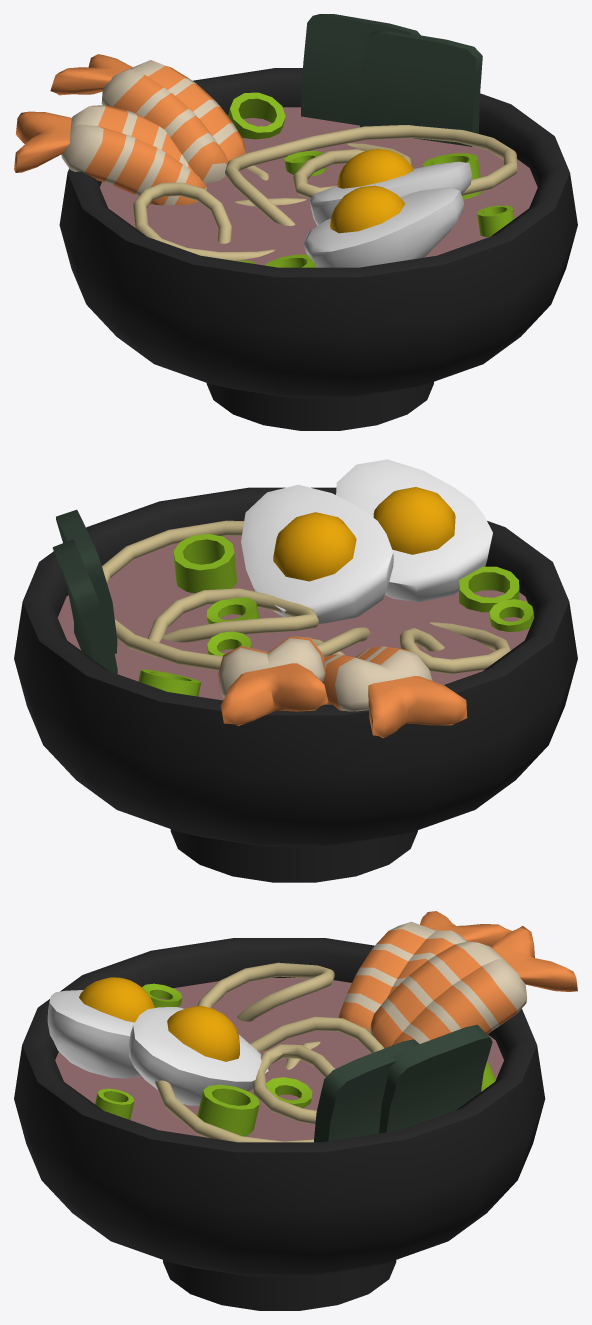
The model's file is Food_Ramen.fbx.
The picture shows the model from 3 angles, top to bottom: view 1: azimuth 30°, elevation 25°; view 2: azimuth 150°, elevation 25°; view 3: azimuth 270°, elevation 25°; orthographic projection. The views are drawn at different scales.
Visible parts, largest first — view 1: Food_Ramen; view 2: Food_Ramen; view 3: Food_Ramen.
Boxes of the visible parts, left/top/right/bottom form: Food_Ramen: left=14, top=14, right=577, bottom=430; Food_Ramen: left=14, top=459, right=577, bottom=882; Food_Ramen: left=14, top=911, right=577, bottom=1310.
Size of the model in its own units: 99.34 by 58.34 by 105.
